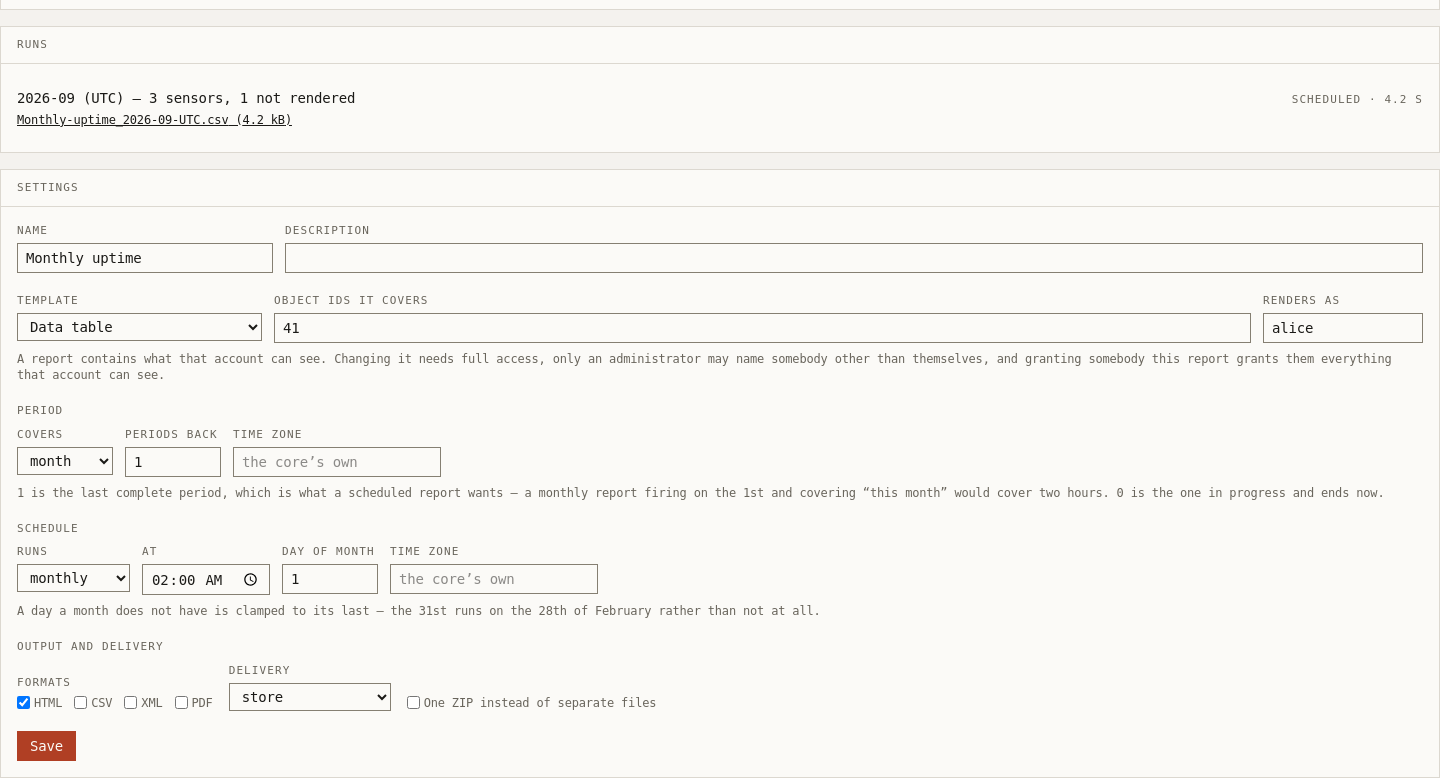
Test: the settings form › hides the recipient list for a stored-only report and shows it when it sends
(page scrolled)
Expected: the text "Recipients" is not shown
Select "email only" in the dropdown labelled "Delivery" at (310,697), box 229,683 -> 391,711
(page scrolled)
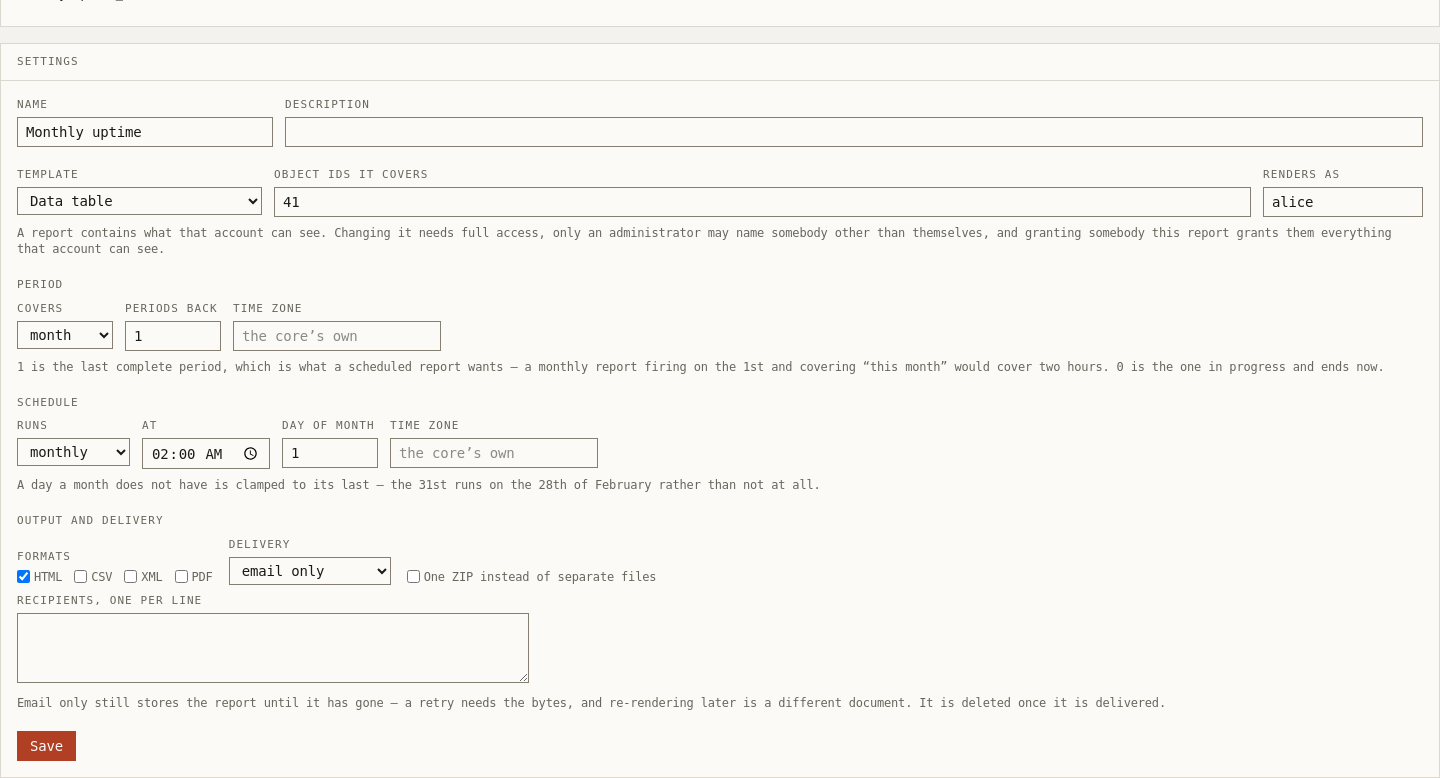
Expected: the text "Recipients, one per line" is shown, 17,594 -> 202,607
Expected: the text "still stores the report until it has gone" is shown, 17,696 -> 1166,710
